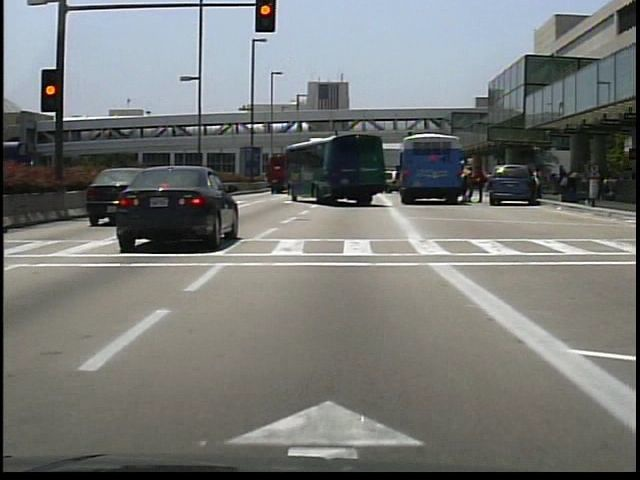person: (472, 164, 487, 207), (462, 163, 477, 204), (530, 168, 543, 207)
